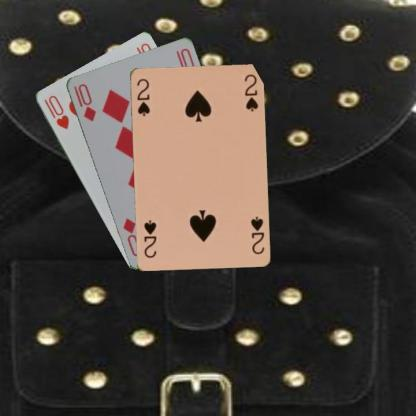10d: (71, 81, 97, 122)
10h: (41, 92, 71, 130)
2s: (248, 214, 265, 255), (134, 76, 151, 116)
